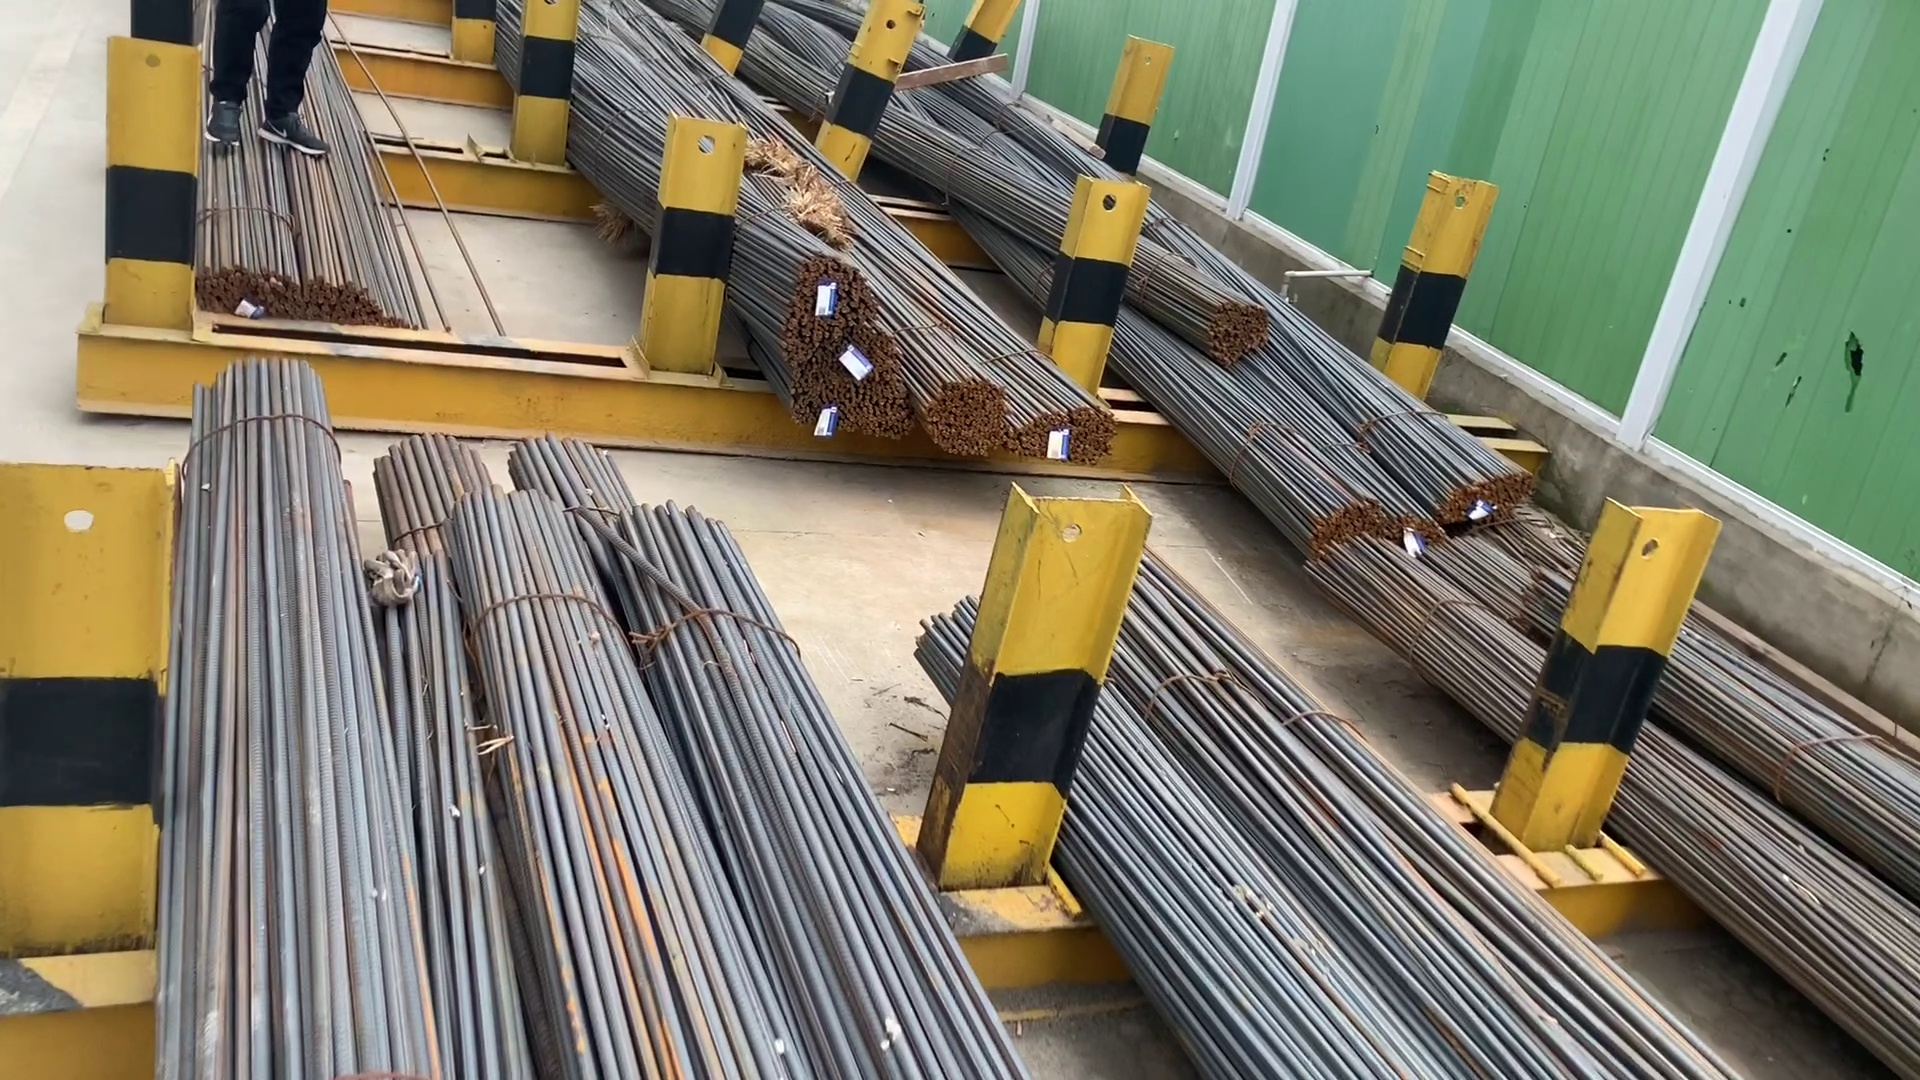rebar: (793, 334, 899, 440), (785, 248, 870, 356), (914, 373, 1004, 458), (191, 257, 291, 324), (1307, 498, 1437, 549), (1010, 404, 1122, 462), (302, 269, 402, 334), (1431, 462, 1531, 525), (1204, 291, 1269, 369)
